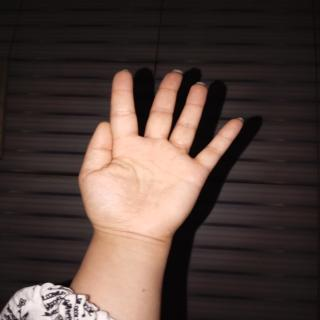SHEEN: (68, 57, 252, 239)
